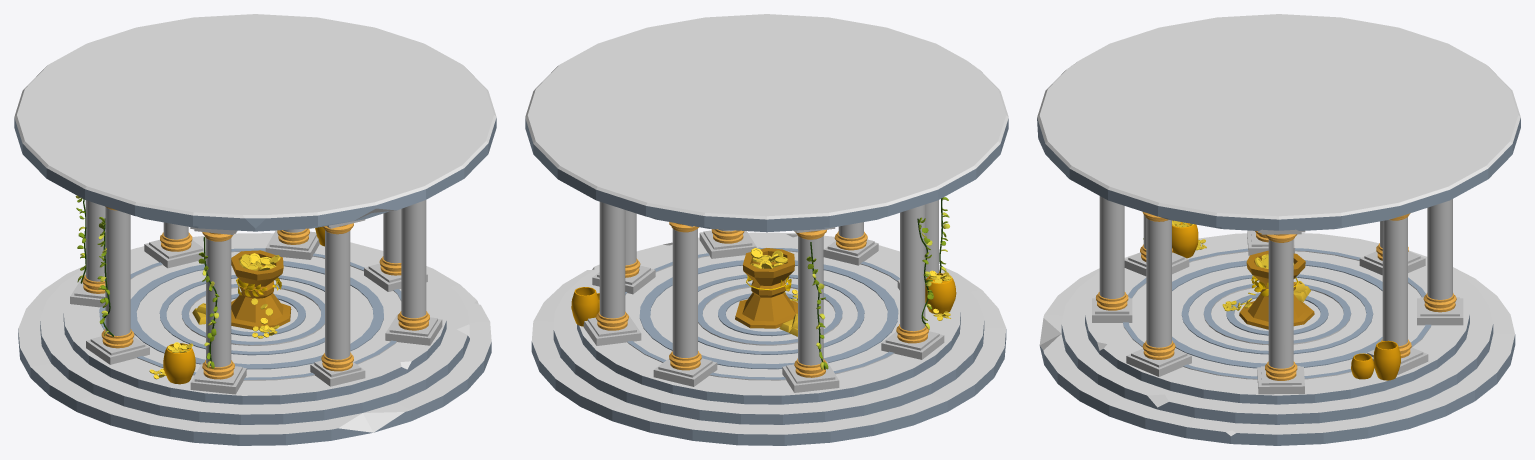
File: ChapterAndBuilding.fbx
The picture shows the model from 3 angles, left to right: view 1: azimuth 30°, elevation 25°; view 2: azimuth 150°, elevation 25°; view 3: azimuth 270°, elevation 25°; orthographic projection.
Visible parts, largest first — view 1: ChapterAndBuilding; view 2: ChapterAndBuilding; view 3: ChapterAndBuilding.
Boxes of the visible parts, x1,y1,x2,y2 form: ChapterAndBuilding: [14, 14, 496, 445]; ChapterAndBuilding: [525, 14, 1008, 445]; ChapterAndBuilding: [1037, 14, 1520, 445].
Size of the model in its own units: 0.5729 by 0.3018 by 0.5729.
